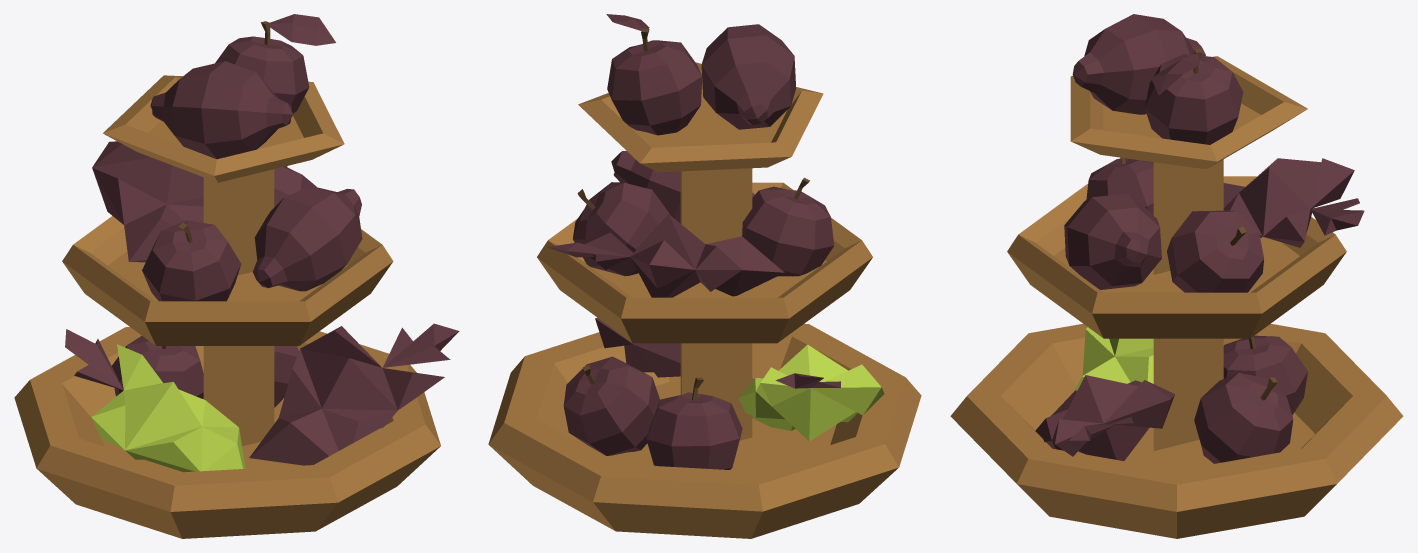
File: SM_Plate_Multi_Storey_Fruit_Empire.fbx
The picture shows the model from 3 angles, left to right: view 1: azimuth 30°, elevation 25°; view 2: azimuth 150°, elevation 25°; view 3: azimuth 270°, elevation 25°; orthographic projection. The views are drawn at different scales.
Parts seen in each view (by area): view 1: SM_Plate_Multi_Storey_Fruit_Empire; view 2: SM_Plate_Multi_Storey_Fruit_Empire; view 3: SM_Plate_Multi_Storey_Fruit_Empire.
Boxes of the visible parts, x1,y1,x2,y2 form: SM_Plate_Multi_Storey_Fruit_Empire: (14, 14, 459, 538); SM_Plate_Multi_Storey_Fruit_Empire: (488, 14, 921, 538); SM_Plate_Multi_Storey_Fruit_Empire: (950, 14, 1403, 538).
Size of the model in its own units: 0.5868 by 0.6244 by 0.5868.
